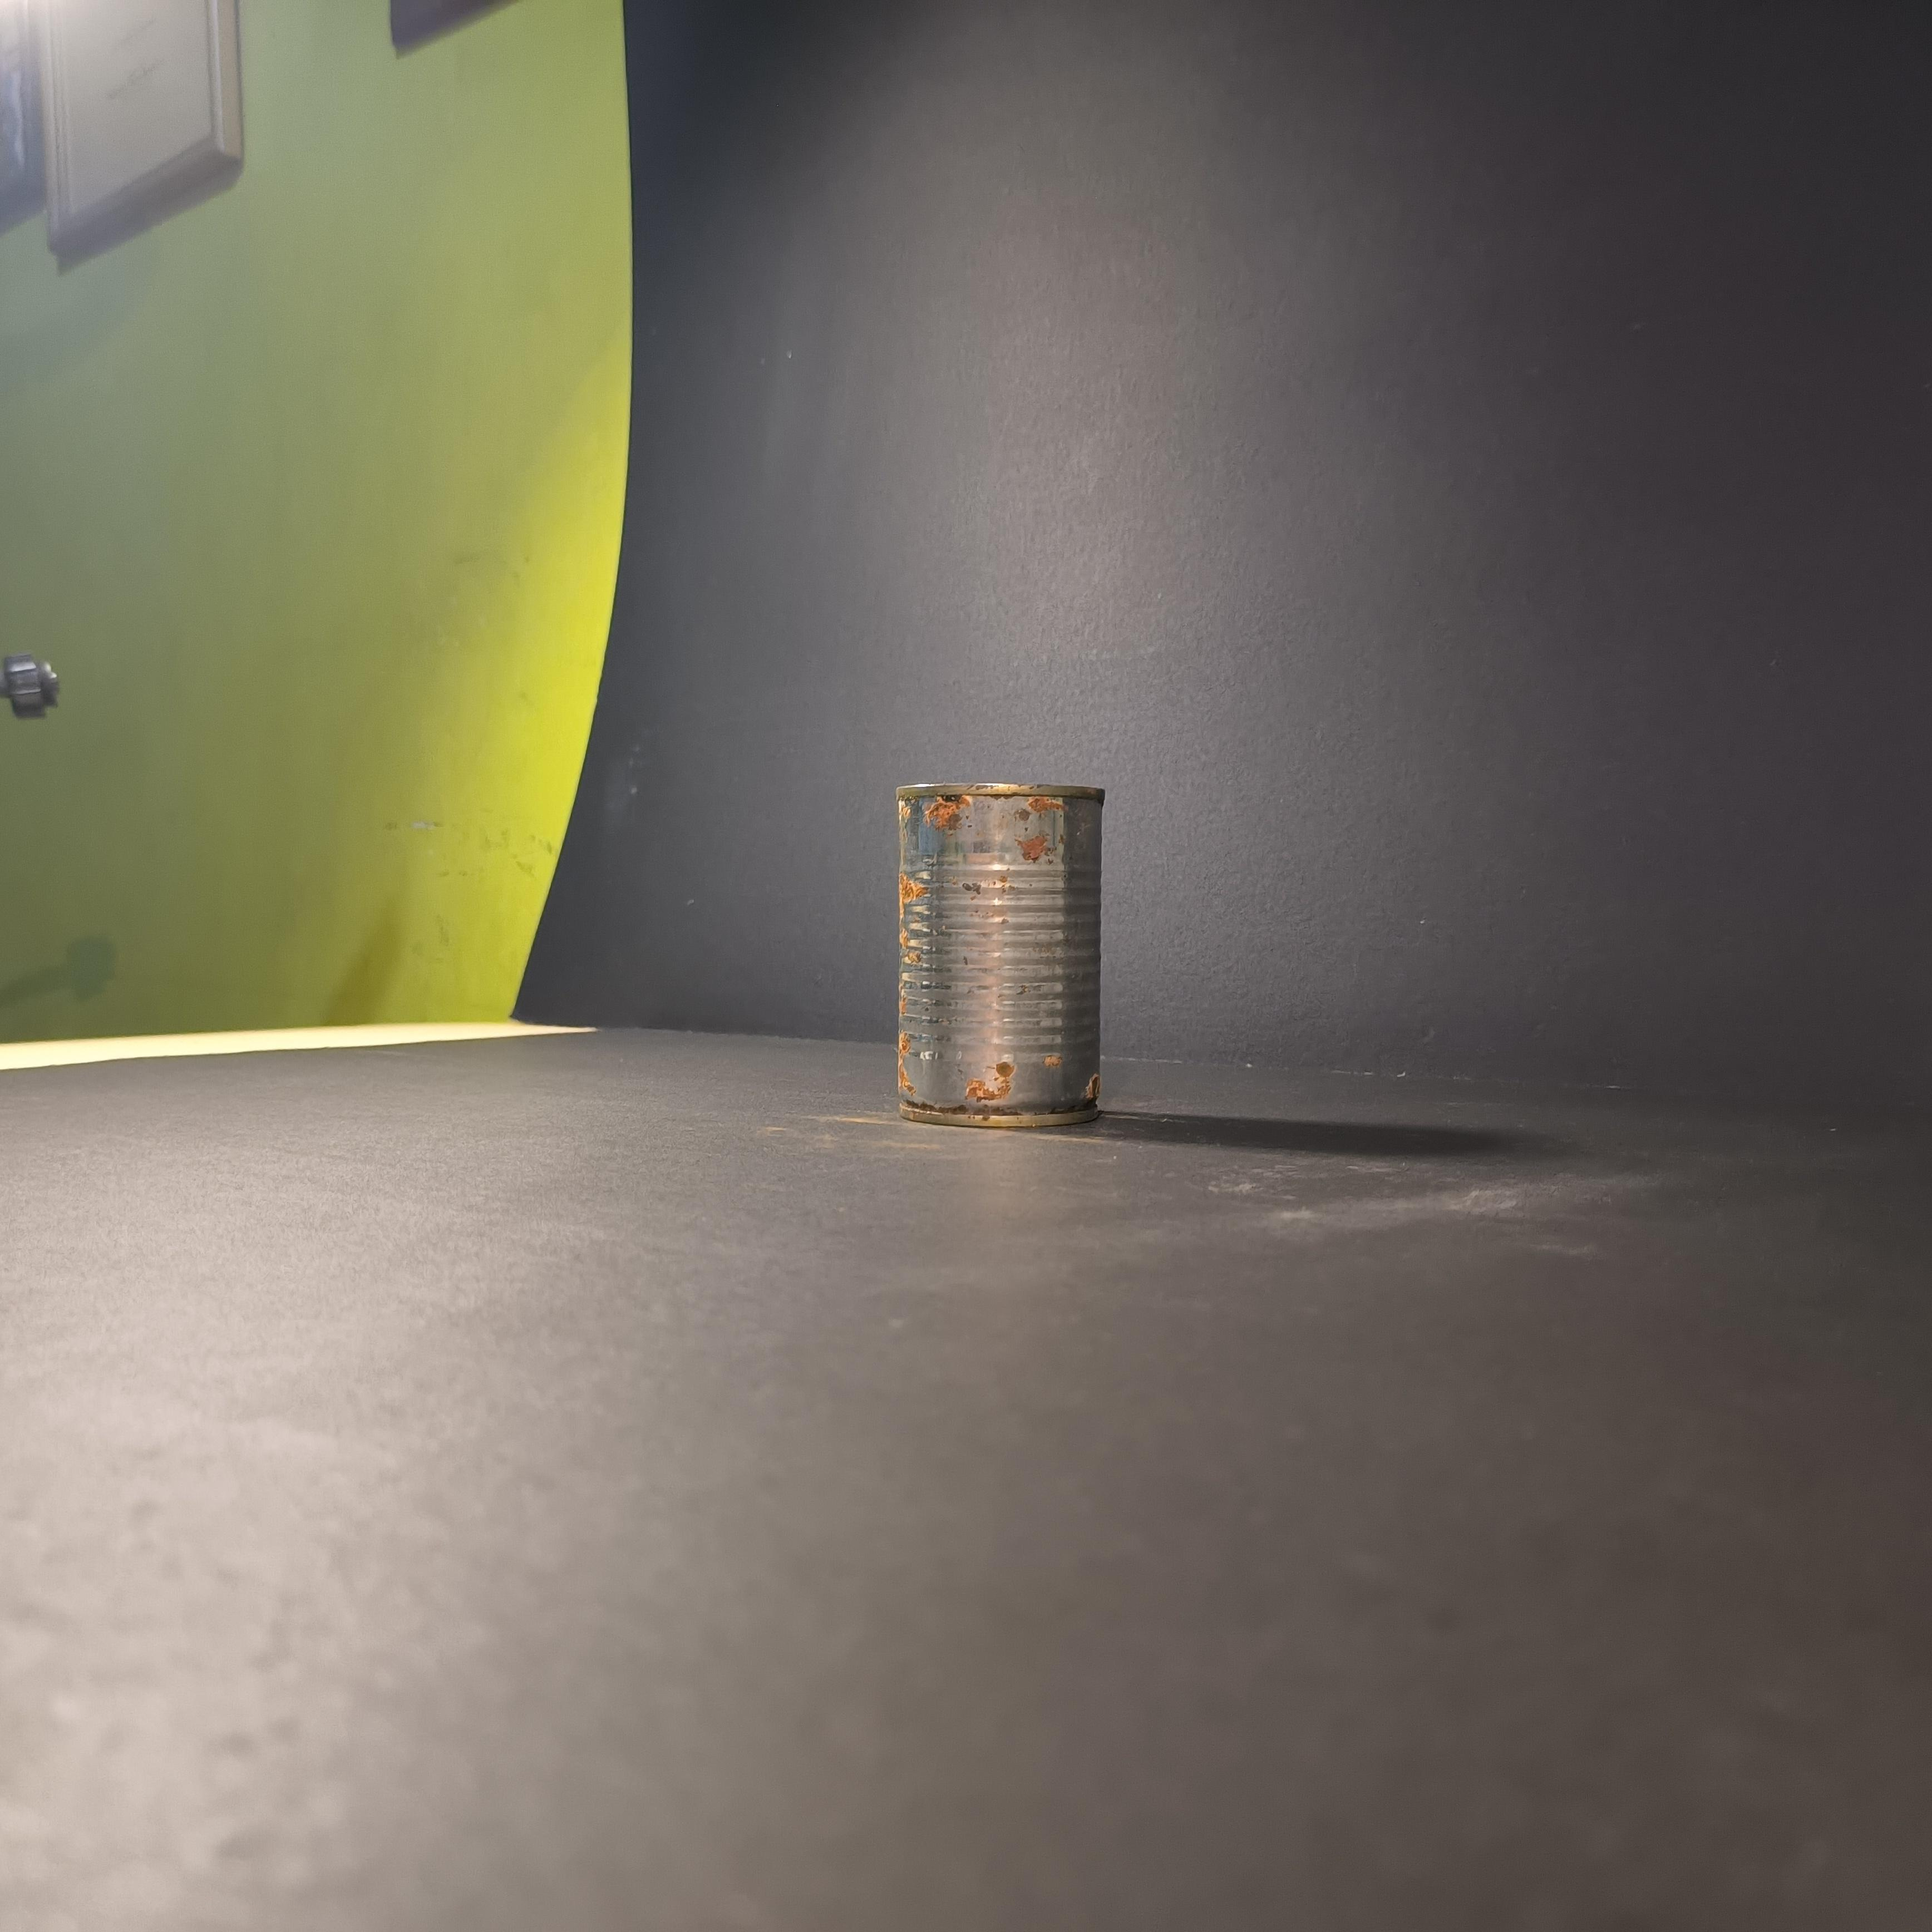Rusted: (890, 768, 1122, 1143)
